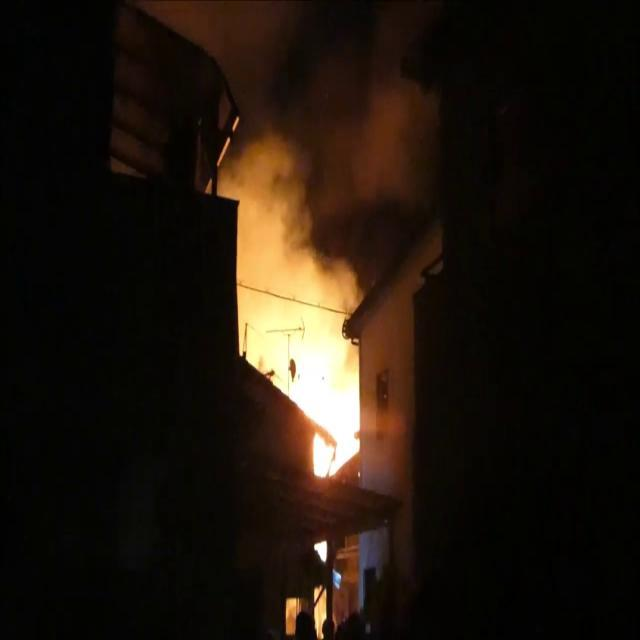Fire: (284, 291, 364, 480)
Smoke: (221, 0, 466, 367)
